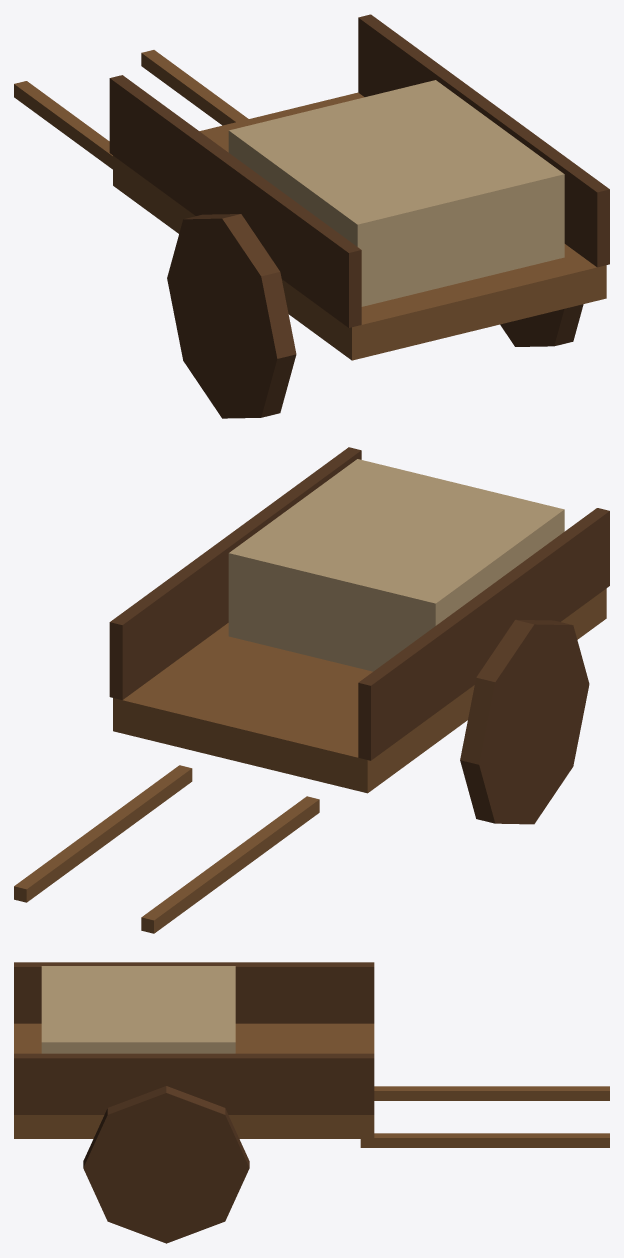
File: SM_Cart.fbx
3 renders of one model, top to bottom at view 1: azimuth 30°, elevation 25°; view 2: azimuth 150°, elevation 25°; view 3: azimuth 270°, elevation 25°, orthographic. The views are drawn at different scales.
Visible parts, largest first — view 1: SM_Cart; view 2: SM_Cart; view 3: SM_Cart.
Boxes of the visible parts, bbox=[...] form: SM_Cart: bbox=[14, 14, 609, 418]; SM_Cart: bbox=[14, 447, 609, 933]; SM_Cart: bbox=[14, 962, 609, 1243].
Bounding box in the file's own units: 1.96 × 4.3 × 1.45.
